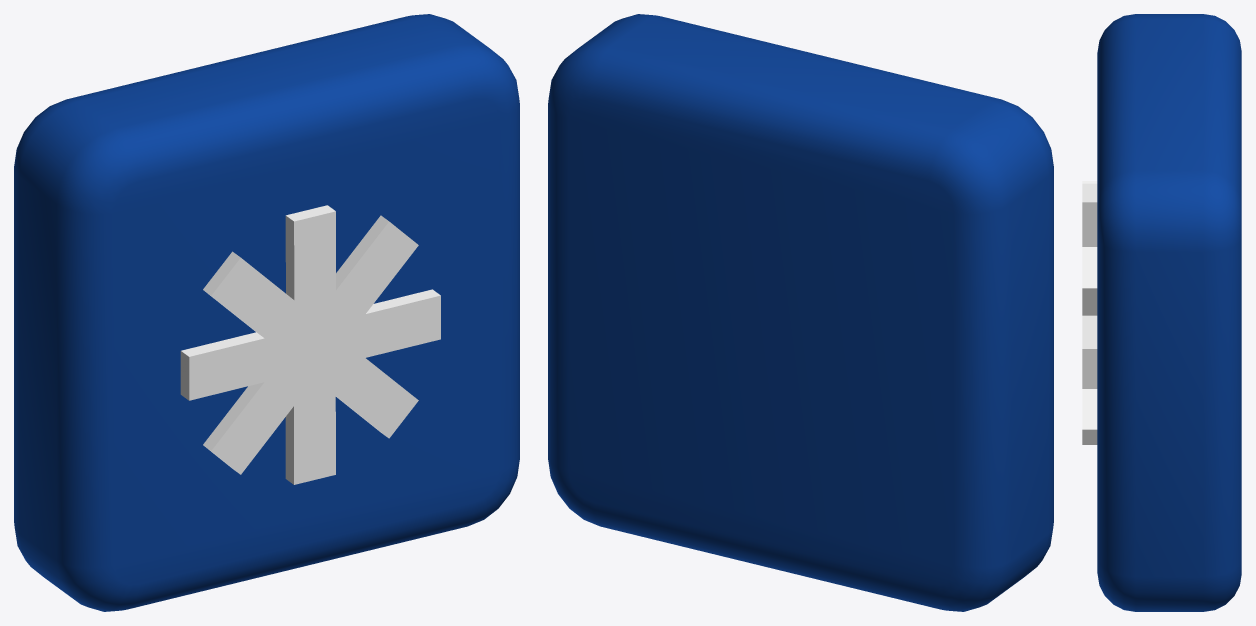
Rendered from keycap_asterisk.glb.
3 views of the same model, side by side, from view 1: azimuth 30°, elevation 25°; view 2: azimuth 150°, elevation 25°; view 3: azimuth 270°, elevation 25° (orthographic). The views are drawn at different scales.
Parts seen in each view (by area): view 1: Cube.6578; view 2: Cube.6578; view 3: Cube.6578.
Boxes of the visible parts, x1,y1,x2,y2 form: Cube.6578: (14,14,519,611); Cube.6578: (548,14,1053,611); Cube.6578: (1082,14,1241,611).
Size of the model in its own units: 2.2 by 2.2 by 0.73.
Materials: 1 (1 with a texture image).
